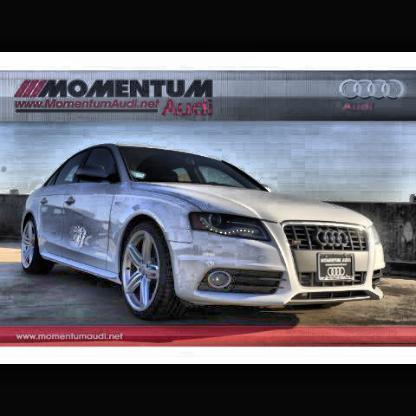Audi S4 Sedan 2012: (21, 143, 388, 318)
